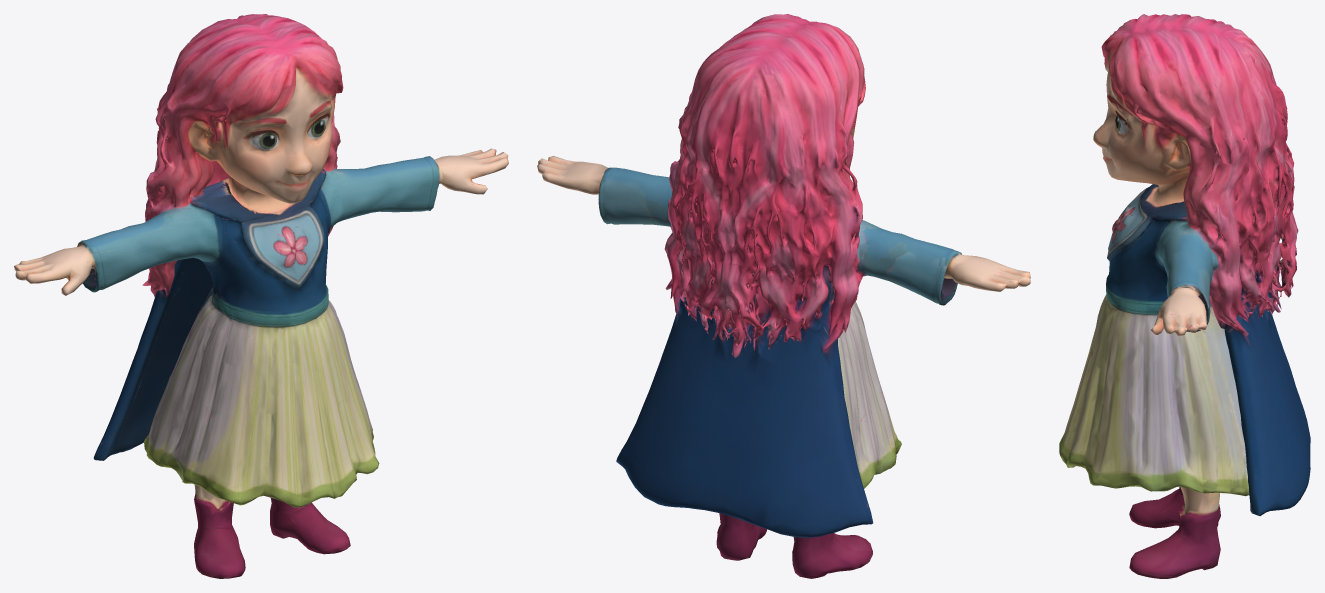
3 views of the same model, side by side, from view 1: azimuth 30°, elevation 25°; view 2: azimuth 150°, elevation 25°; view 3: azimuth 270°, elevation 25° (orthographic).
Size of the model in its own units: 1.89 by 1.92 by 0.8407.
1 material, 1 textured.
